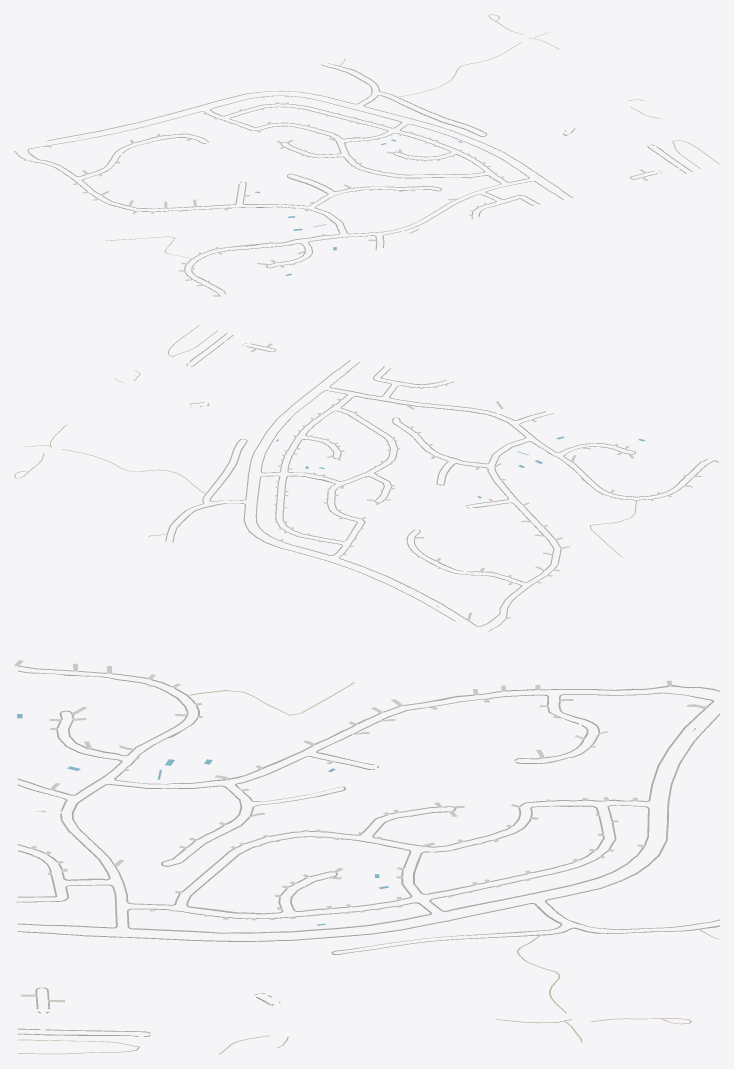
File: ground_r2_c2.glb
3 views of the same model, one above another, from view 1: azimuth 30°, elevation 25°; view 2: azimuth 150°, elevation 25°; view 3: azimuth 270°, elevation 25° (orthographic). The views are drawn at different scales.
Visible parts, largest first — view 1: sidewalks, driveways, paths; view 2: sidewalks, driveways, paths; view 3: sidewalks, driveways, paths.
Part boxes in pixels (bbox=[...]): sidewalks: bbox=[14, 63, 692, 295]; driveways: bbox=[23, 96, 648, 296]; paths: bbox=[105, 14, 719, 258]; sidewalks: bbox=[165, 333, 713, 631]; driveways: bbox=[190, 343, 719, 620]; paths: bbox=[14, 325, 636, 557]; sidewalks: bbox=[17, 666, 719, 1036]; driveways: bbox=[14, 660, 707, 1005]; paths: bbox=[17, 682, 719, 1054].
Size of the model in its own units: 1108 by 79.55 by 792.
